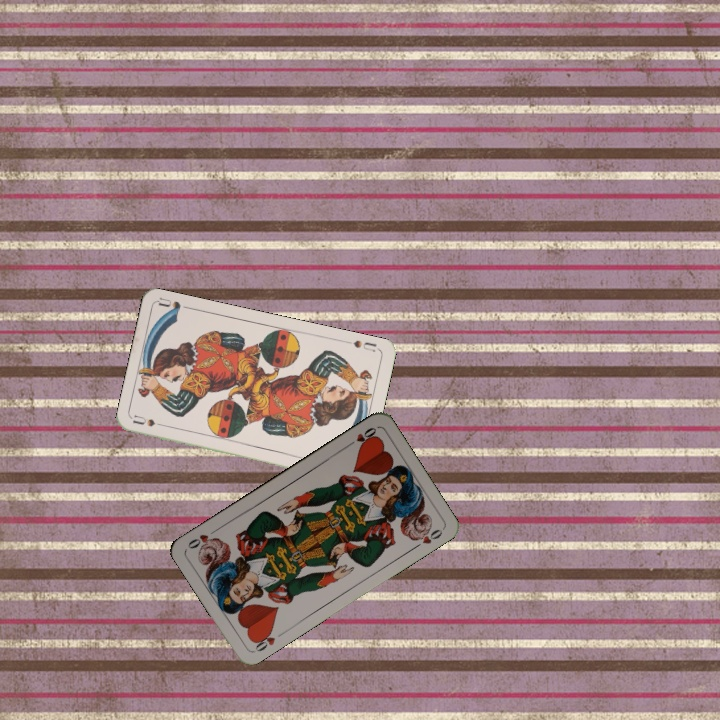HO: (343, 423, 379, 450), (249, 626, 278, 655)
SU: (129, 411, 170, 430), (349, 336, 379, 355)
